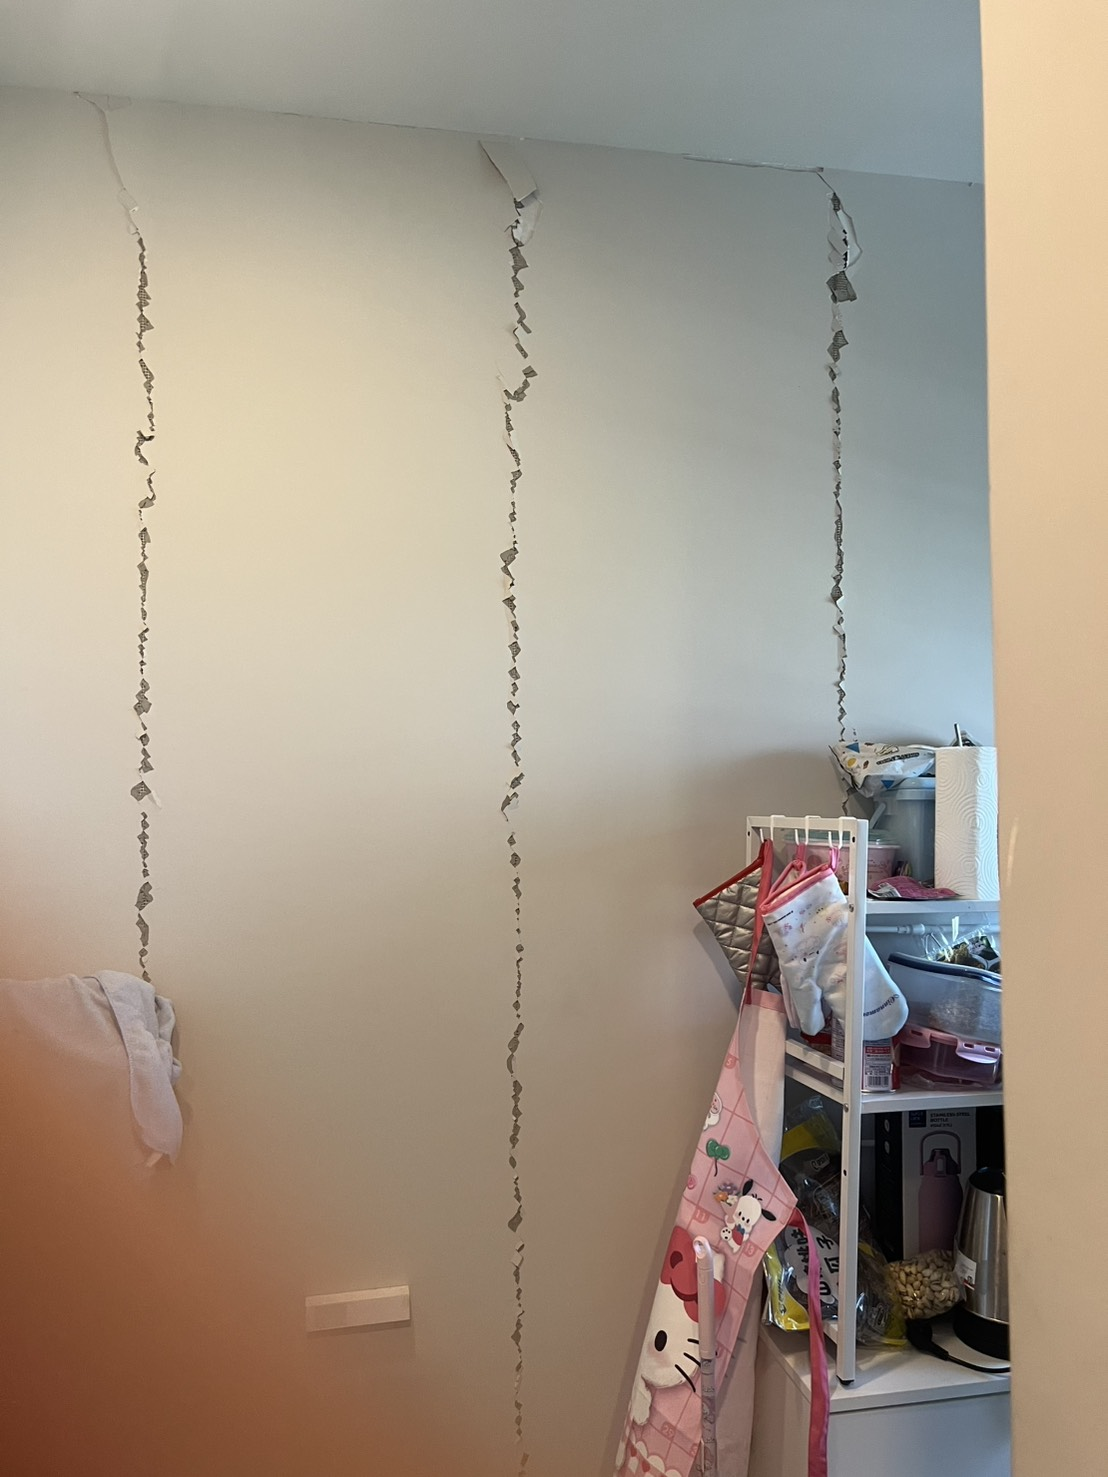Medium: (807, 190, 890, 624)
